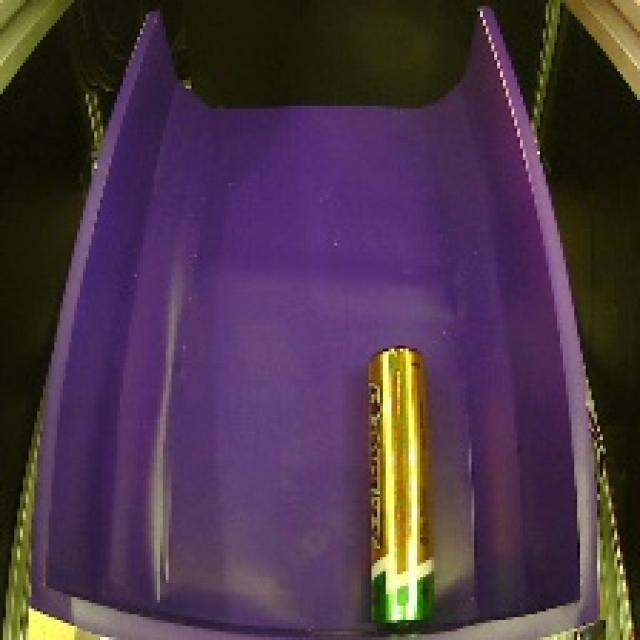battery: (352, 335, 439, 637)
